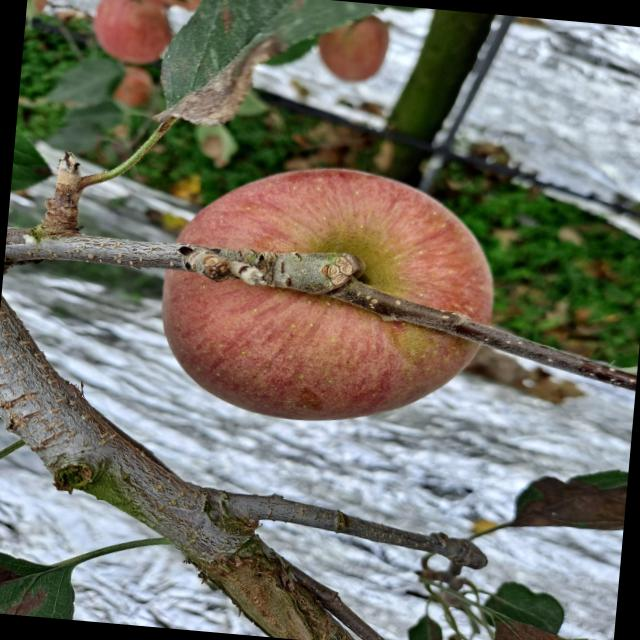fresh: (143, 142, 518, 443)
